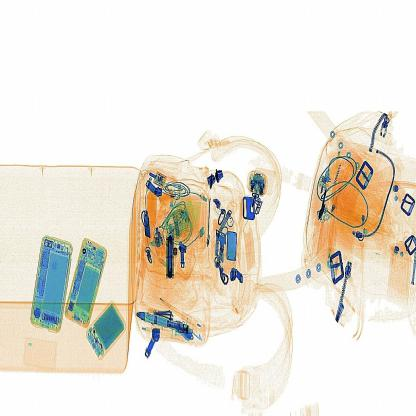scissors: (159, 224, 184, 278)
